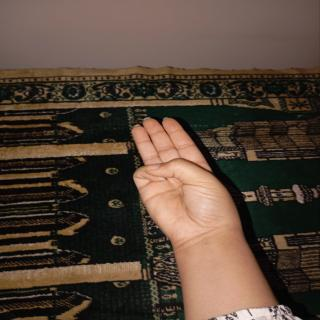THA: (125, 110, 238, 254)
